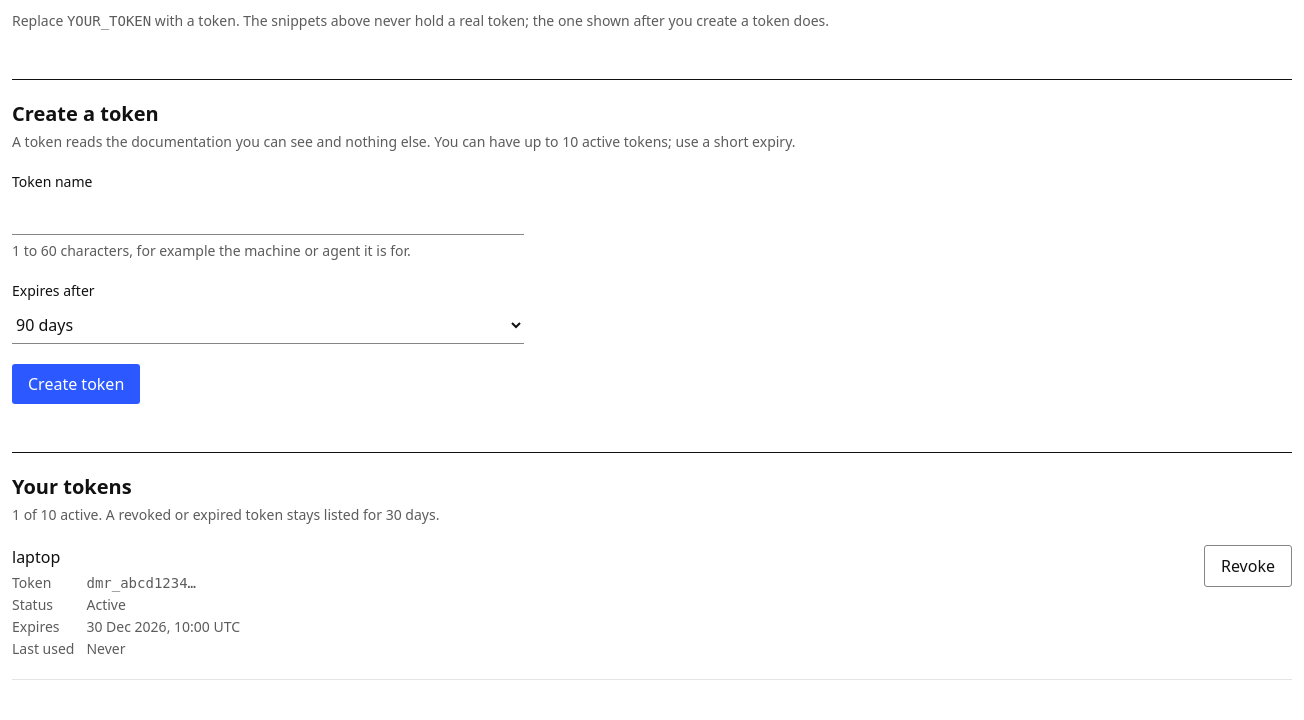
Test: AgentAccess: revoking › removes a token the server no longer knows and says so
(page scrolled)
Click the button with aria-label "Revoke laptop" at (1248, 566), box [1204,545,1292,587]
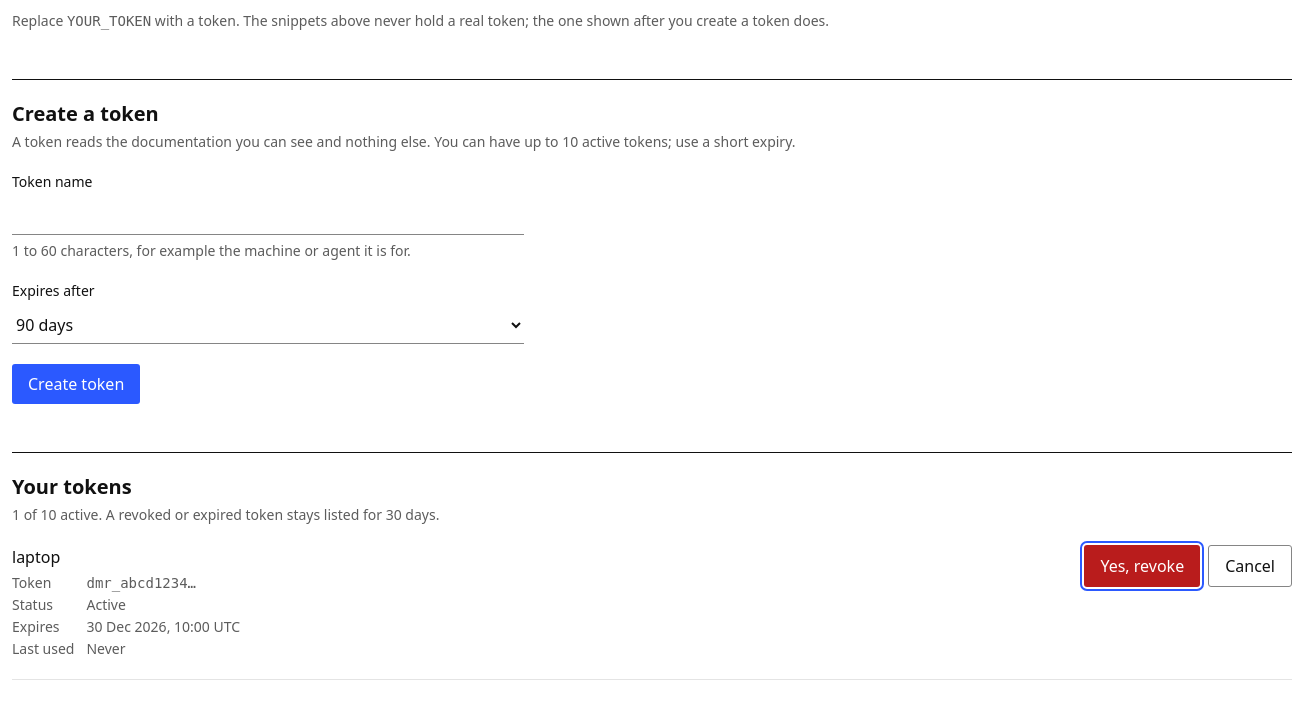
Click the button "Yes, revoke" at (1142, 566), box [1084,545,1200,587]
(page scrolled)
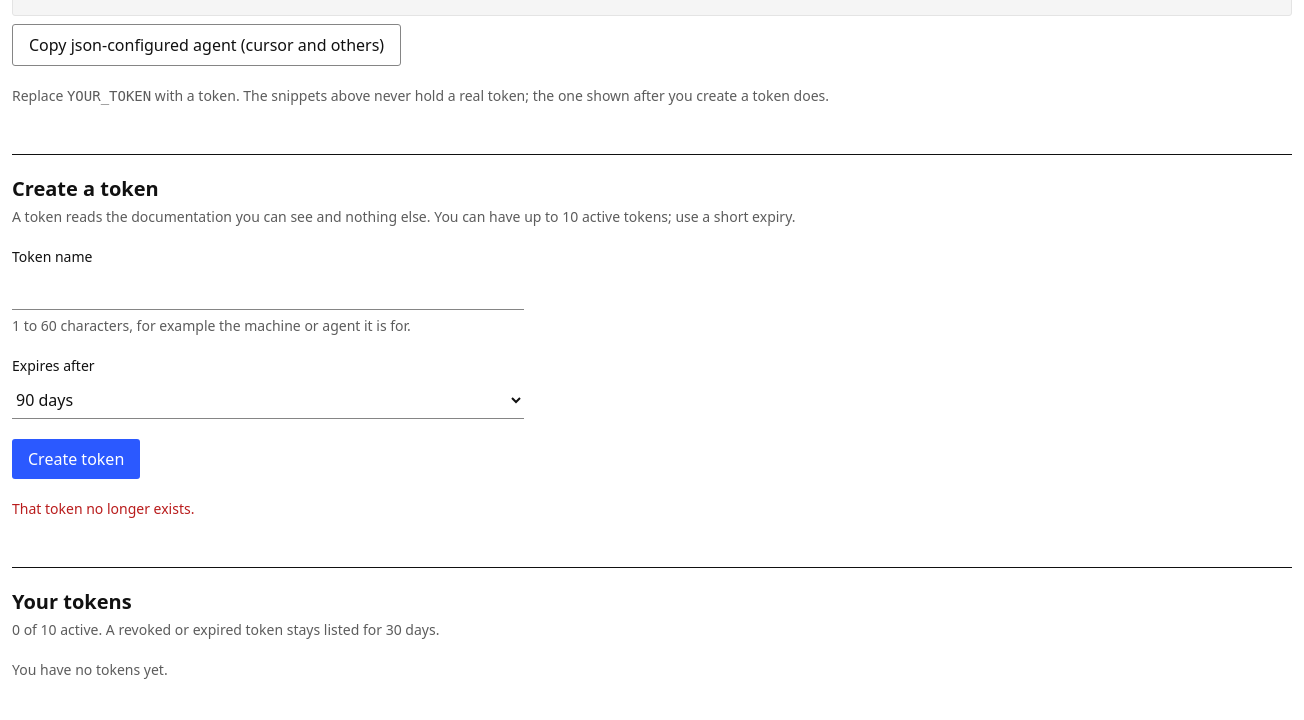
Check: the message with test id "agent-access-error" shows "no longer exists", box [12,499,194,518]
Check: the list item with test id "token-item" is gone
